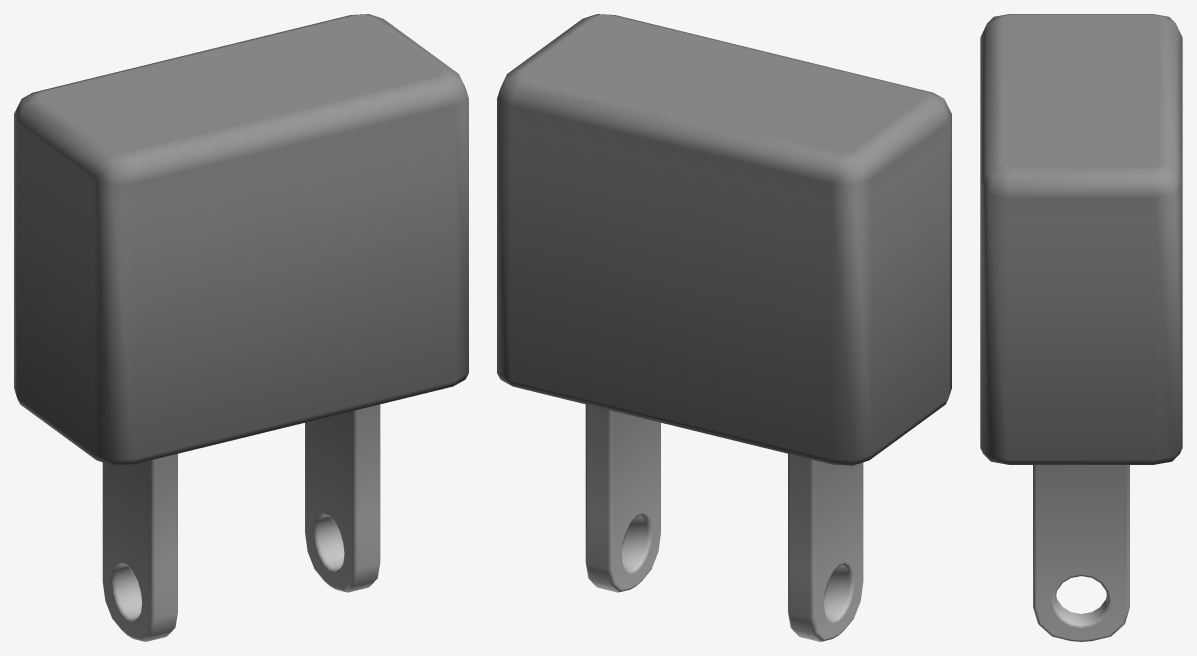
File: Plug.fbx
3 renders of one model, left to right at view 1: azimuth 30°, elevation 25°; view 2: azimuth 150°, elevation 25°; view 3: azimuth 270°, elevation 25°, orthographic. The views are drawn at different scales.
Visible parts, largest first — view 1: Plug; view 2: Plug; view 3: Plug.
Boxes of the visible parts, x1,y1,x2,y2 form: Plug: (14,14,468,641); Plug: (497,14,951,641); Plug: (980,14,1182,641).
Size of the model in its own units: 0.3086 by 0.4167 by 0.1533.
